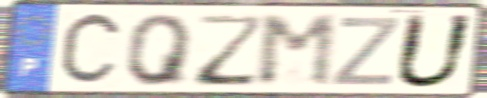C: (56, 9, 126, 91)
M: (256, 13, 339, 89)
Q: (125, 12, 197, 88)
U: (390, 12, 478, 91)
Z: (194, 13, 269, 89), (329, 15, 403, 88)
